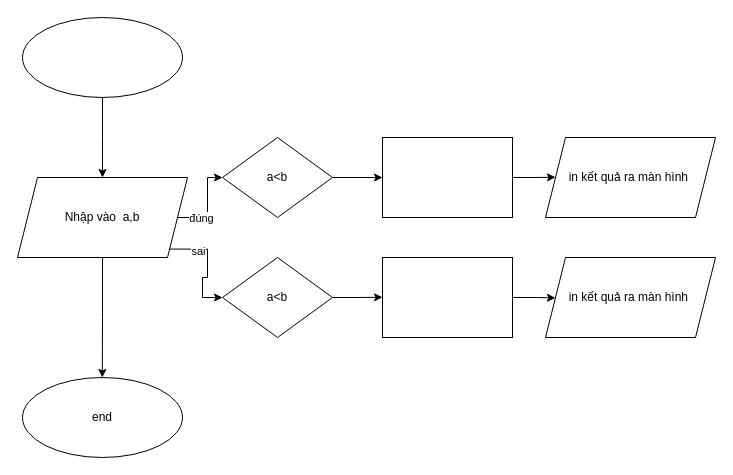
The diagram is 733 pixels wide and 475 high, and some of its shapes have lost their labels. The box of each missing label's shape, as (x1, y1, x2, y2) in pixels:
a là số bé hơn: (382, 136, 512, 218)
b là số bé hơn: (382, 256, 512, 338)
start: (22, 16, 182, 98)
